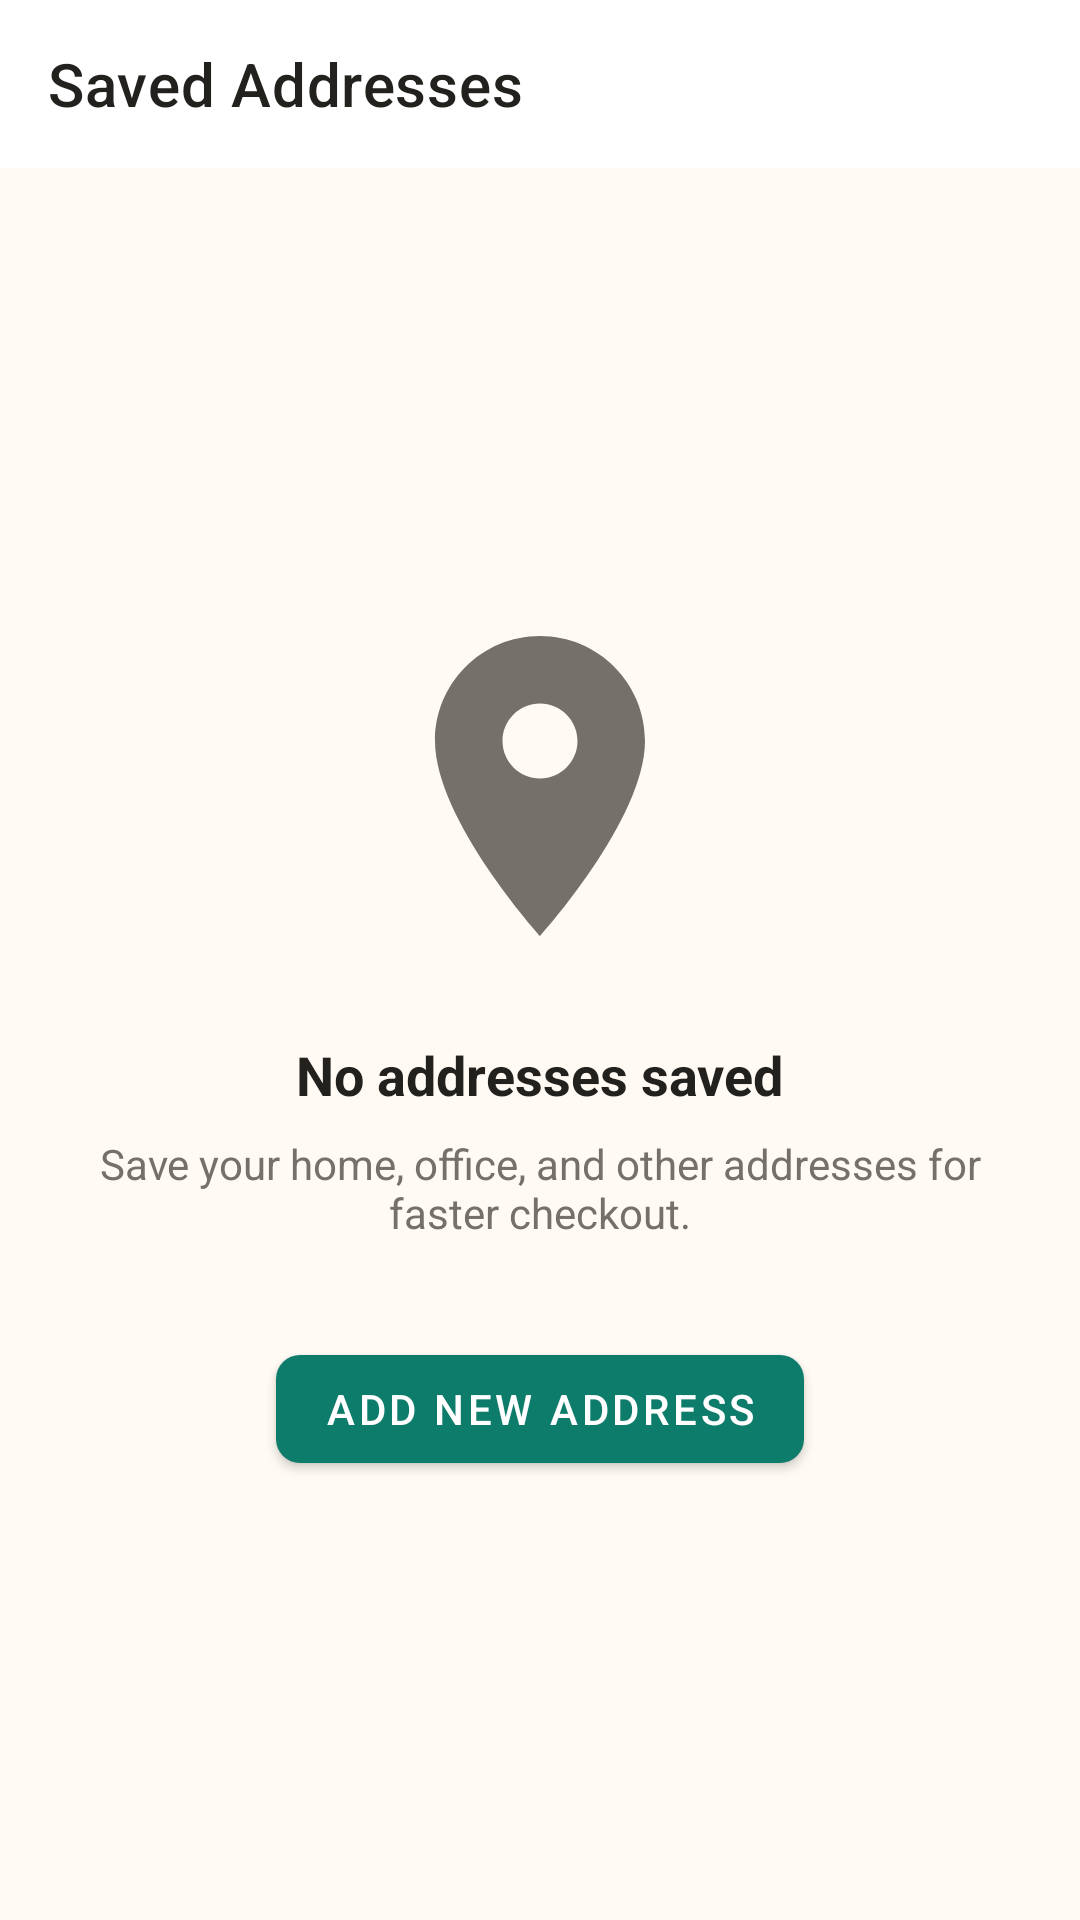

Icon bounding boxes for this 1080 x 1920 phone screenshot, format {"x1": x1, "y1": y1, "x2": x2, "y2": y2}:
location: {"x1": 435, "y1": 636, "x2": 645, "y2": 936}
